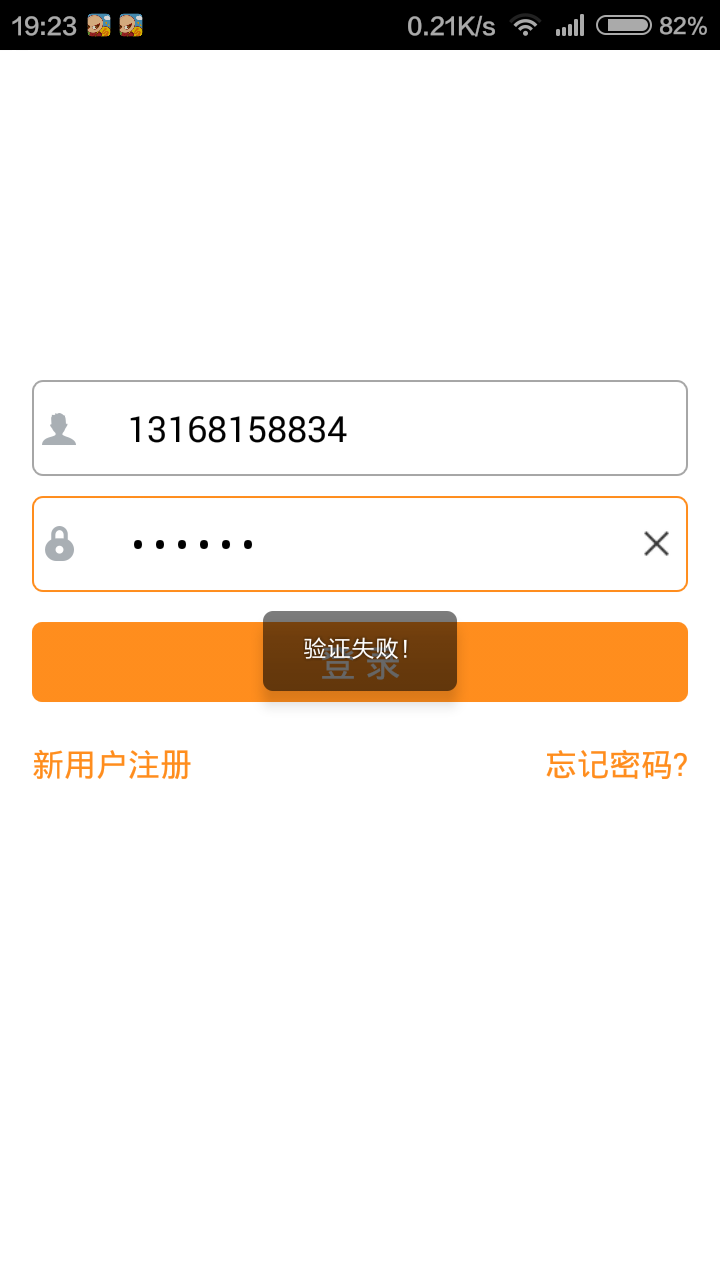alert: (257, 603, 465, 695)
button: (25, 620, 696, 706)
textview: (25, 376, 693, 485), (26, 491, 689, 599)
